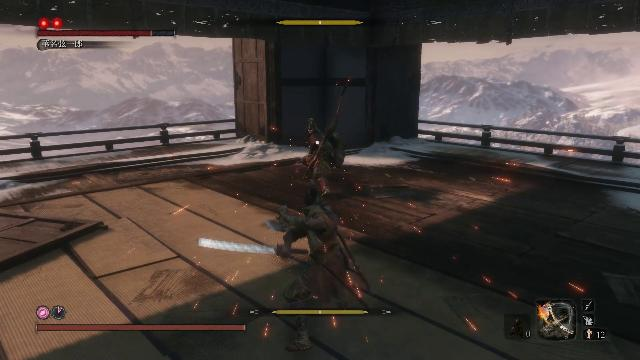sk: (265, 187, 355, 354)
